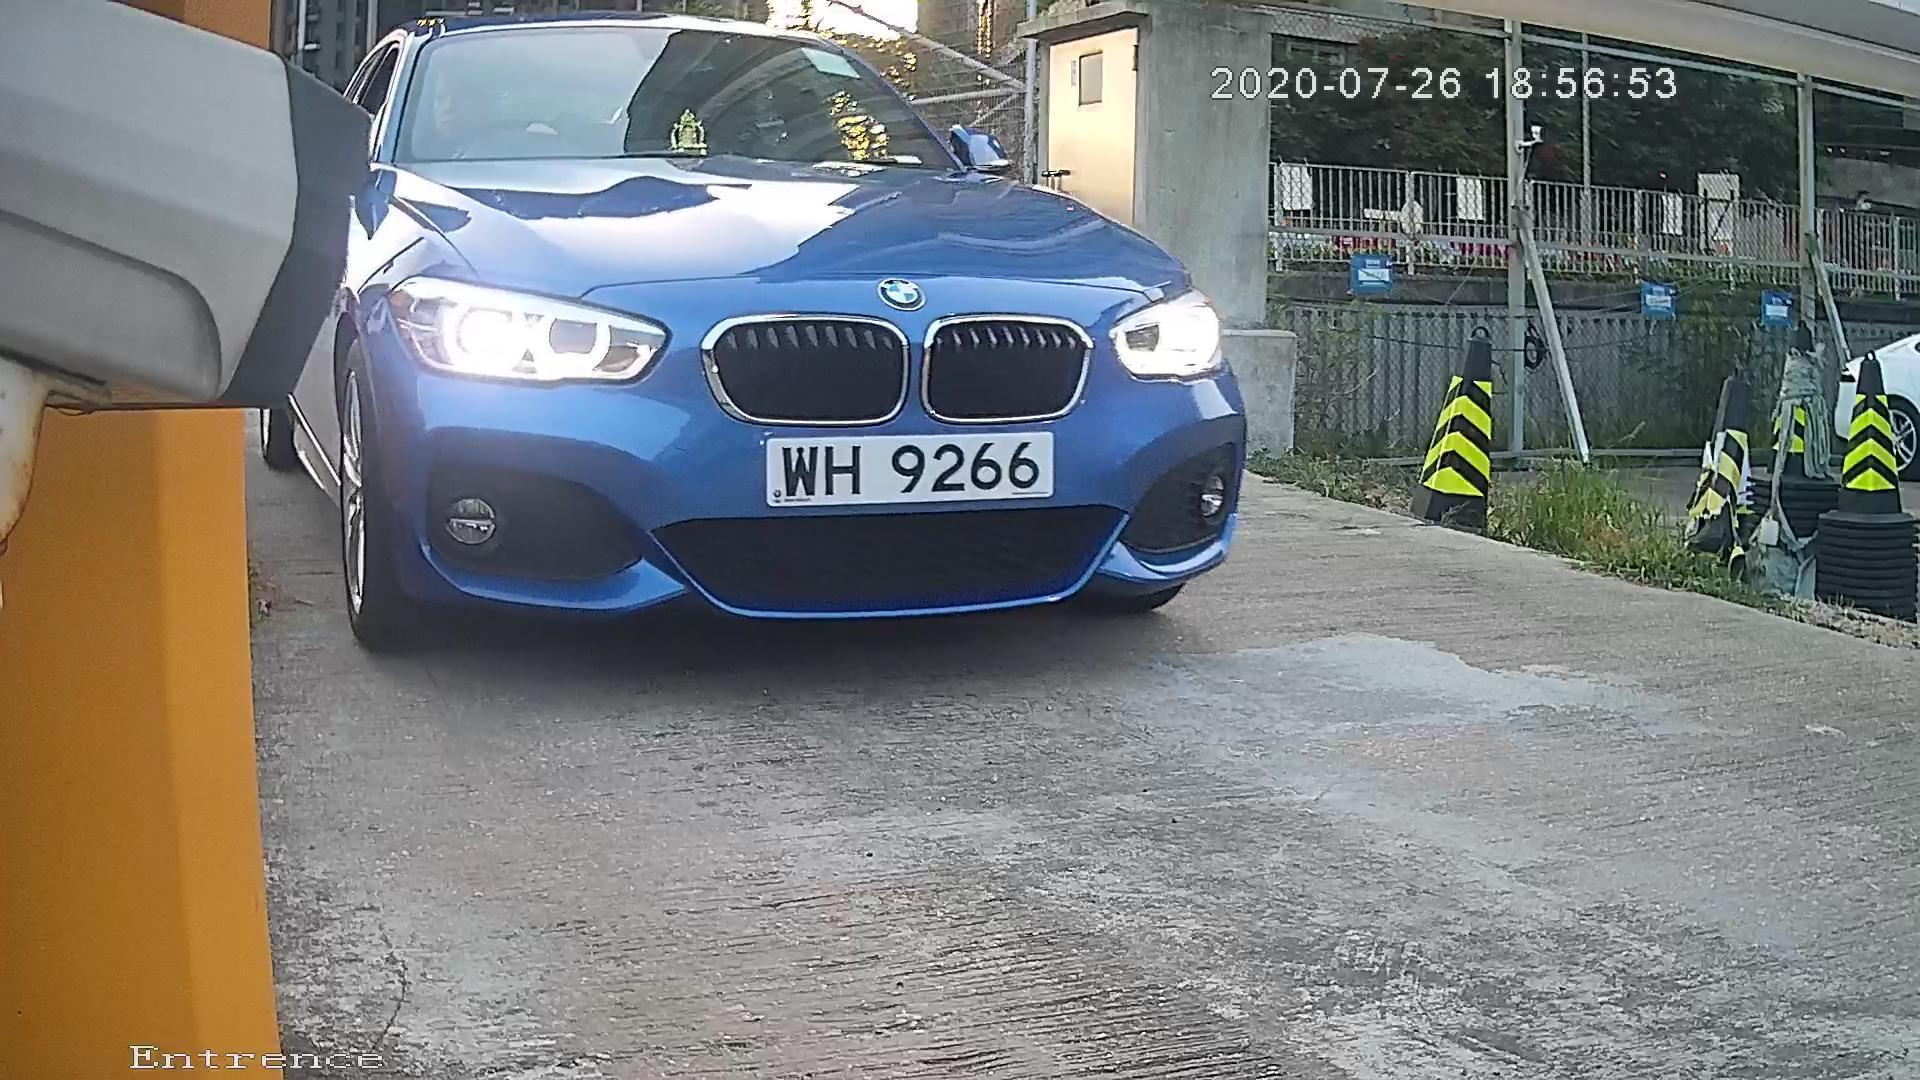License Plate: (746, 420, 1063, 512)
